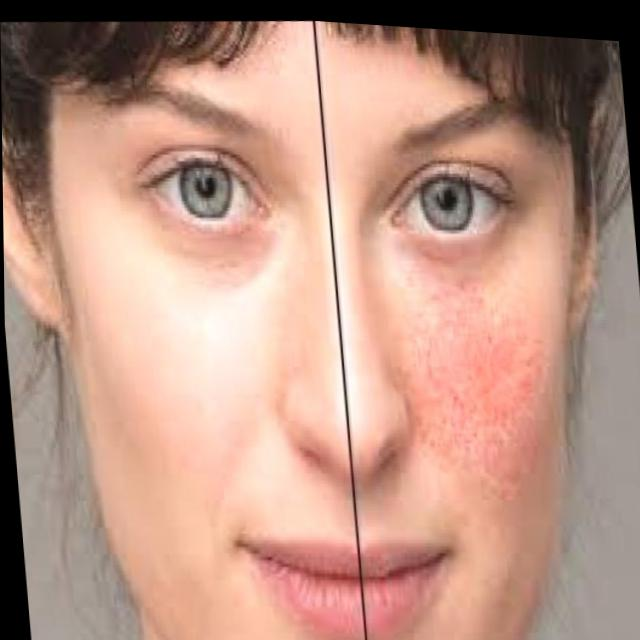Rosacea: (383, 245, 561, 533)
